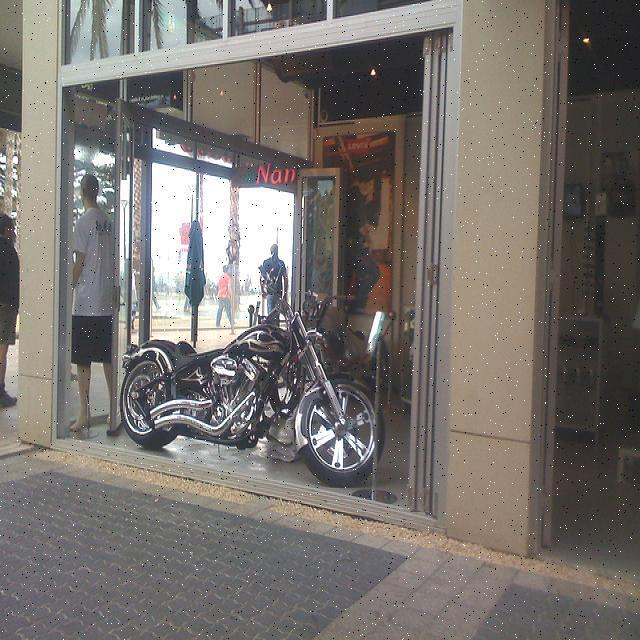motorcycle: (104, 315, 390, 469)
